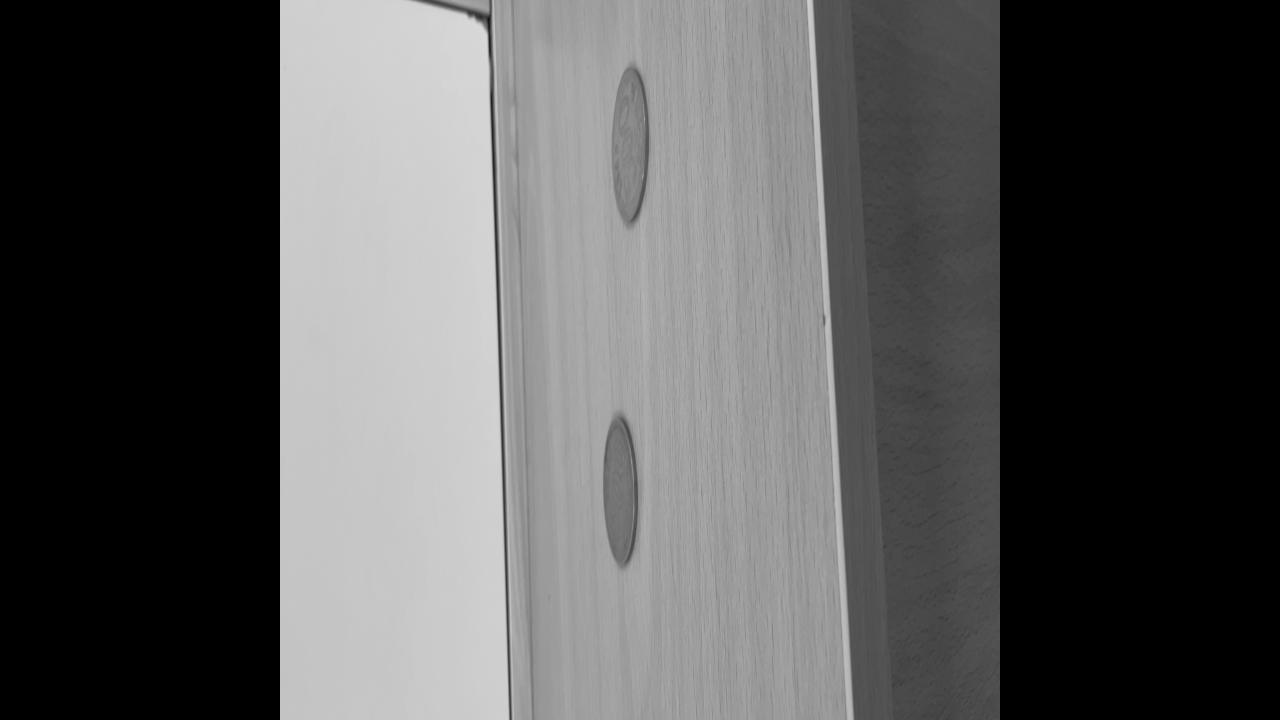coin: (609, 62, 651, 228), (600, 410, 640, 570)
